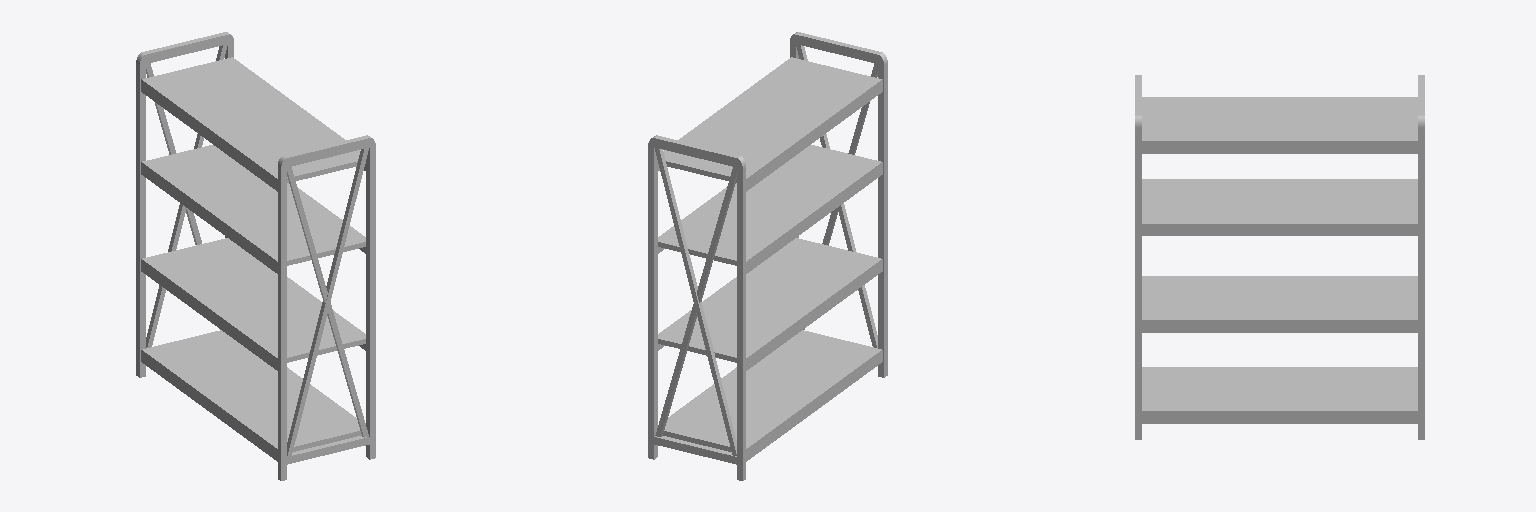
The model's file is new stilage.obj.
3 renders of one model, left to right at view 1: azimuth 30°, elevation 25°; view 2: azimuth 150°, elevation 25°; view 3: azimuth 270°, elevation 25°, orthographic.
Visible parts, largest first — view 1: Cube.023, Cube.021, Cube.020, Cube.022, Cube.002, Cube.001, Cube, Cube.015, Cube.014, Cube.008, Cube.018, Cube.005 (+4 smaller); view 2: Cube.023, Cube.021, Cube.020, Cube.022, Cube.001, Cube.002, Cube.003, Cube.008, Cube.009, Cube.015, Cube.018, Cube.005 (+4 smaller); view 3: Cube.022, Cube.021, Cube.023, Cube.020, Cube, Cube.003, Cube.004, Cube.019, Cube.011, Cube.012.
Boxes of the visible parts, box(x1,y1,x2,y2) form: Cube.023: box(141, 57, 365, 183); Cube.021: box(141, 238, 365, 362); Cube.020: box(141, 330, 361, 453); Cube.022: box(141, 145, 365, 266); Cube.002: box(136, 32, 227, 377); Cube.001: box(278, 136, 369, 480); Cube: box(366, 135, 375, 459); Cube.015: box(287, 148, 368, 456); Cube.014: box(287, 167, 368, 437); Cube.008: box(146, 44, 227, 347); Cube.018: box(141, 84, 277, 191); Cube.005: box(141, 355, 277, 461); Cube.023: box(663, 57, 882, 183); Cube.021: box(658, 238, 882, 362); Cube.020: box(663, 330, 882, 453); Cube.022: box(658, 145, 882, 266); Cube.001: box(796, 32, 887, 377); Cube.002: box(654, 136, 745, 480); Cube.003: box(648, 135, 657, 459); Cube.008: box(655, 148, 736, 455); Cube.009: box(655, 167, 736, 436); Cube.015: box(796, 44, 877, 347); Cube.018: box(746, 84, 882, 191); Cube.005: box(746, 355, 882, 461); Cube.022: box(1142, 179, 1417, 228); Cube.021: box(1142, 276, 1417, 325); Cube.023: box(1142, 97, 1417, 145); Cube.020: box(1142, 367, 1417, 415); Cube: box(1135, 115, 1141, 439); Cube.003: box(1418, 115, 1424, 439); Cube.004: box(1142, 416, 1417, 423); Cube.019: box(1142, 146, 1417, 153); Cube.011: box(1142, 326, 1417, 332); Cube.012: box(1142, 229, 1417, 235).
Size of the model in its own units: 16.05 by 52.13 by 42.53.